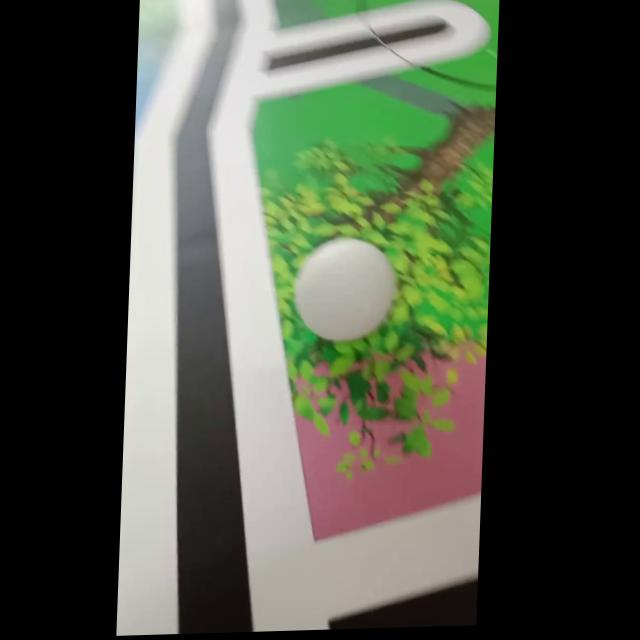white ball: (291, 235, 398, 344)
